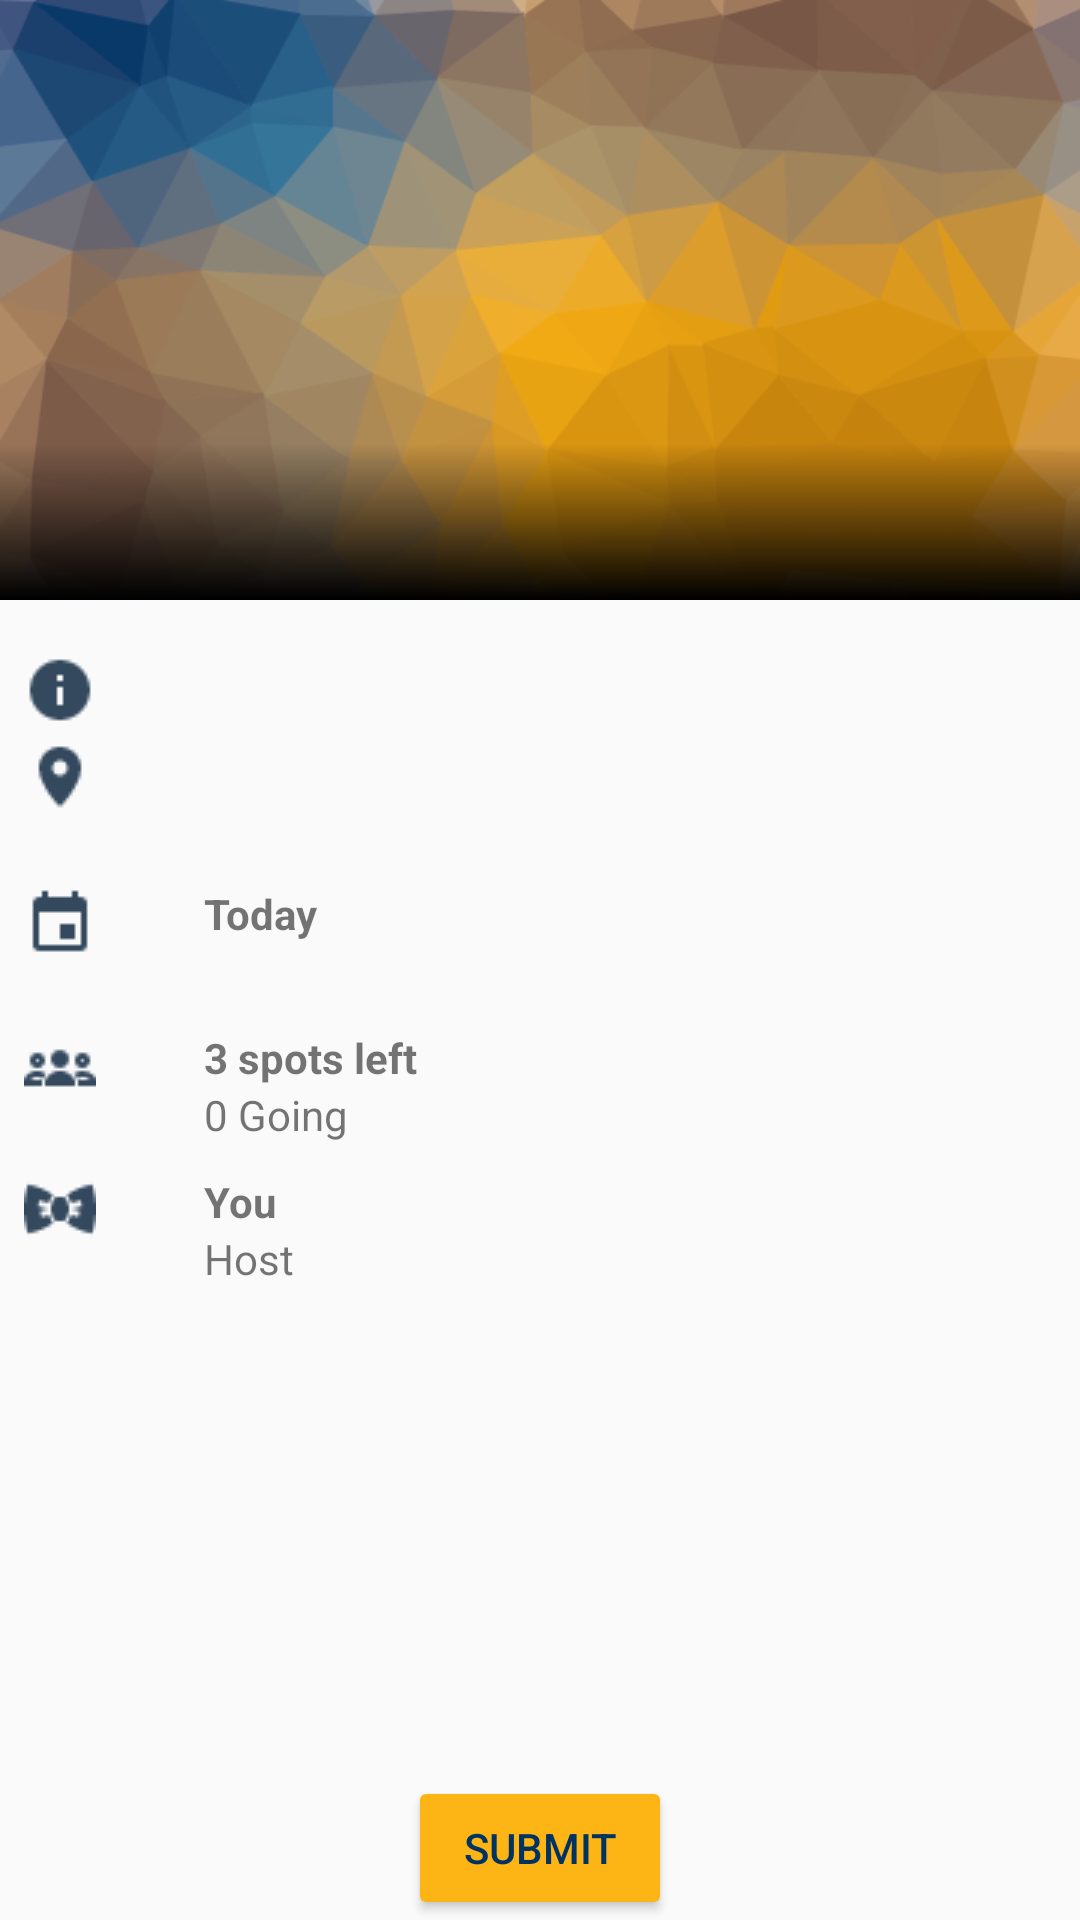

Named icons in this screenshot (1080px×1920px) and their bounding boxes, (x1, y1, x2, y2):
calendar: (32, 890, 88, 952)
guests: (24, 1049, 96, 1087)
info: (29, 659, 91, 721)
location: (38, 746, 82, 808)
